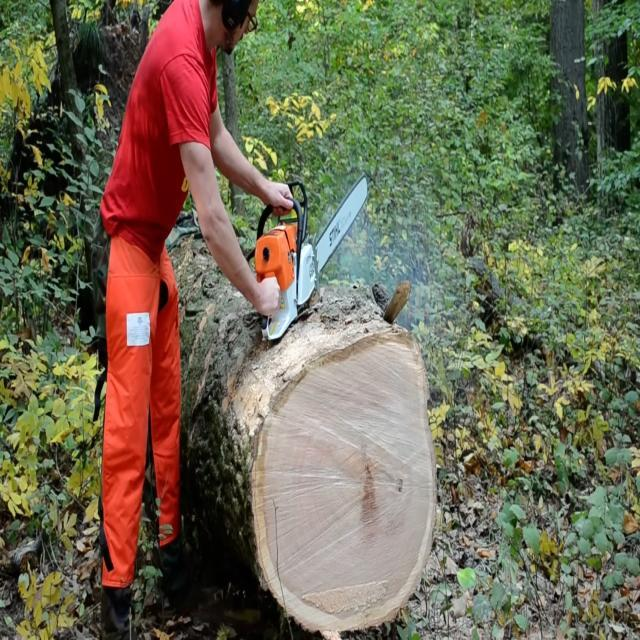Chainsaw: (242, 168, 382, 352)
